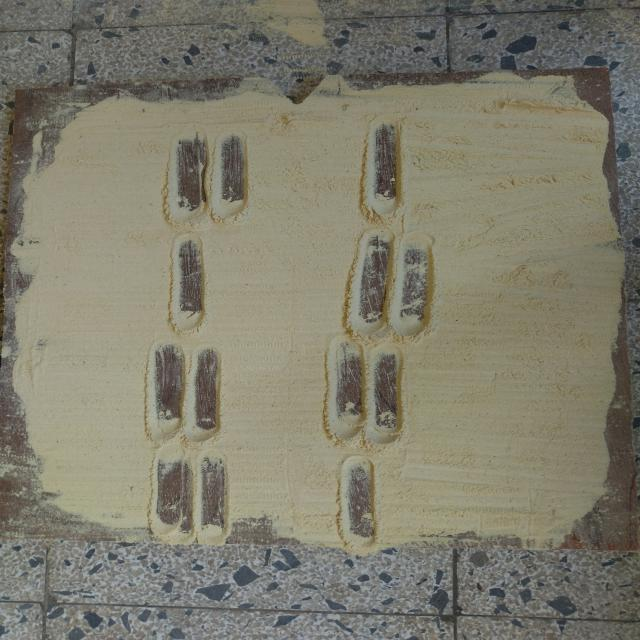double: (340, 225, 440, 342), (319, 335, 414, 453), (159, 125, 257, 229), (140, 337, 230, 447), (148, 444, 237, 546)
single: (354, 110, 413, 225), (161, 228, 214, 340), (333, 451, 386, 552)
